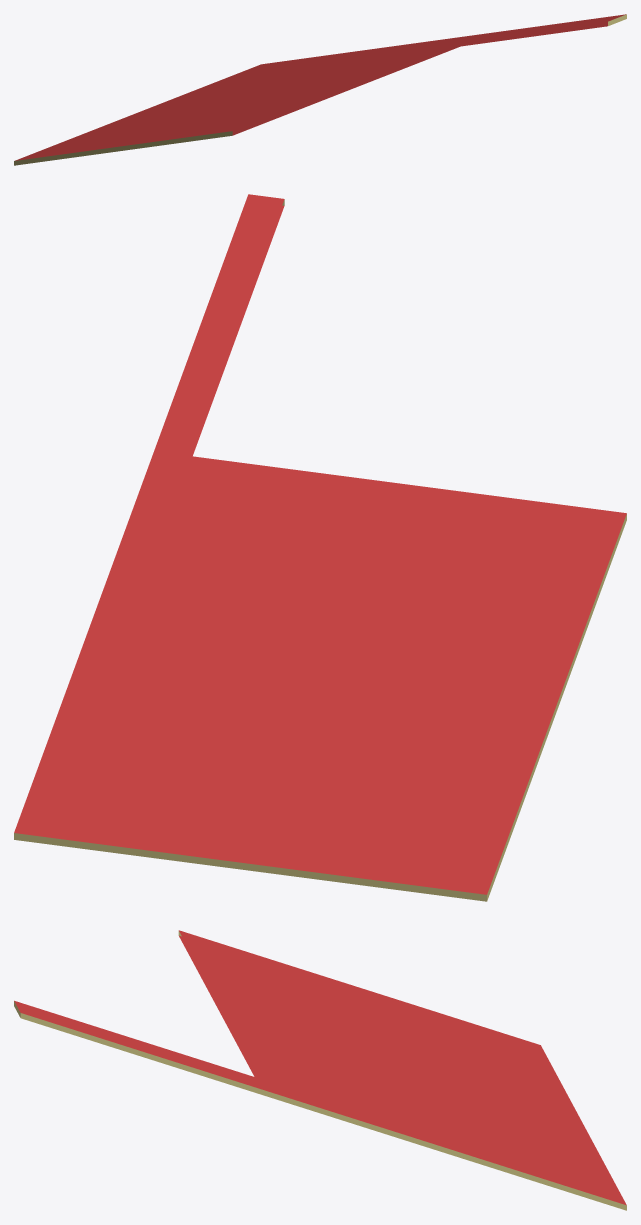
3 views of the same model, one above another, from view 1: azimuth 30°, elevation 25°; view 2: azimuth 150°, elevation 25°; view 3: azimuth 270°, elevation 25° (orthographic). The views are drawn at different scales.
Bounding box in the file's own units: 8.68 × 10.29 × 4.75.
